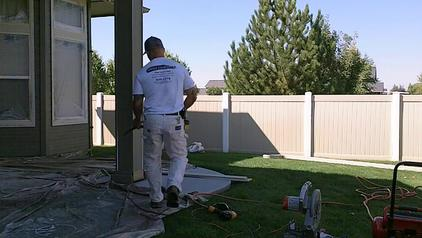down: (202, 201, 242, 217)
stay: (130, 31, 194, 194)
